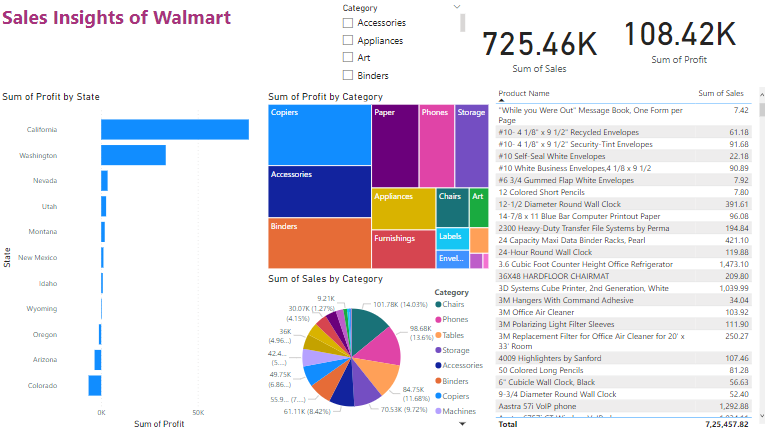

The dashboard page shown, as its layout file describes it:
{"tool":"powerbi","page":{"name":"Page 1","canvas":[1280,720],"ordinal":0},"visuals":[{"type":"barChart","fields":{"Category":["Walmart.State"],"Y":["Sum(Walmart.Profit)"]},"box":[0,150.7,443.4,569.3],"z":0},{"type":"treemap","fields":{"Group":["Walmart.Category"],"Values":["Sum(Walmart.Profit)"]},"box":[443.4,150.7,377.6,302.9],"z":1000},{"type":"pieChart","fields":{"Category":["Walmart.Category"],"Y":["Sum(Walmart.Sales)"]},"box":[443.4,453.7,377.6,266.3],"z":2000},{"type":"tableEx","fields":{"Values":["Walmart.Product Name","Sum(Walmart.Sales)"]},"box":[821,140.5,459.5,579.5],"z":3000},{"type":"card","fields":{"Values":["Sum(Walmart.Profit)"]},"box":[1012.7,0,240,118.5],"z":4000},{"type":"card","fields":{"Values":["Sum(Walmart.Sales)"]},"box":[782.9,0,234.1,150.7],"z":5000},{"type":"slicer","fields":{"Values":["Walmart.Category"]},"box":[560.5,0,222.4,150.7],"z":6000},{"type":"textbox","box":[0,0,560.5,150.7],"z":7000}]}

Visuals, with their boxes in screenshot pixels (x1, y1, x2, y2), scaled from the page's 1280x720 canvas onto the 766x428 screenshot:
barChart - Walmart.State x Sum(Walmart.Profit): left=0, top=90, right=265, bottom=427
treemap - Walmart.Category x Sum(Walmart.Profit): left=265, top=90, right=491, bottom=270
pieChart - Walmart.Category x Sum(Walmart.Sales): left=265, top=270, right=491, bottom=427
tableEx - Walmart.Product Name x Sum(Walmart.Sales): left=491, top=84, right=765, bottom=427
card - Sum(Walmart.Profit): left=606, top=0, right=750, bottom=70
card - Sum(Walmart.Sales): left=469, top=0, right=609, bottom=90
slicer - Walmart.Category: left=335, top=0, right=469, bottom=90
textbox: left=0, top=0, right=335, bottom=90
